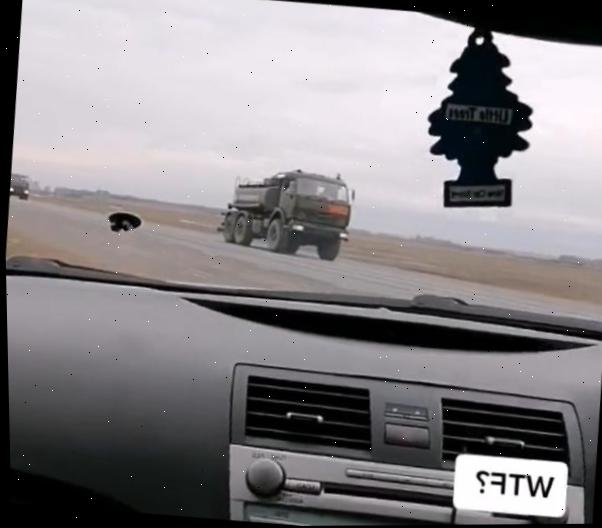truck: (218, 160, 358, 262), (8, 171, 31, 208)
